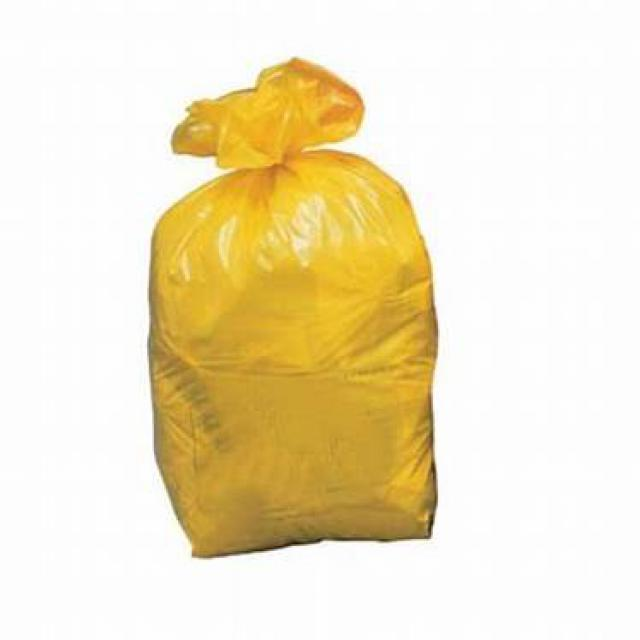waste: (146, 62, 438, 555)
